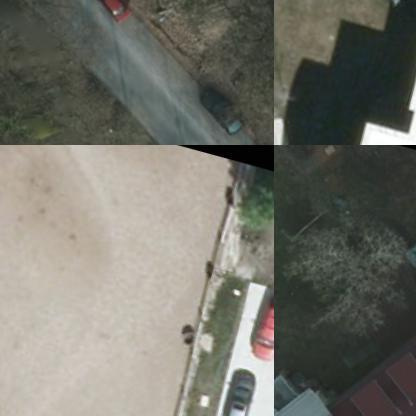car: (183, 77, 248, 141), (244, 288, 273, 366), (207, 364, 251, 415), (77, 0, 136, 23)
